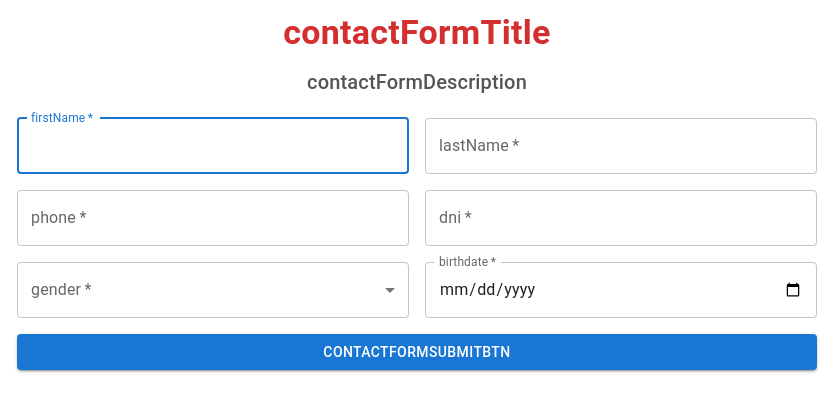
it: ContactForm › displays error message on invalid DNI
The image size is (835, 413).
Type "12345678X" into the field with test id "dni" at (621,218), box 425,190 -> 817,246
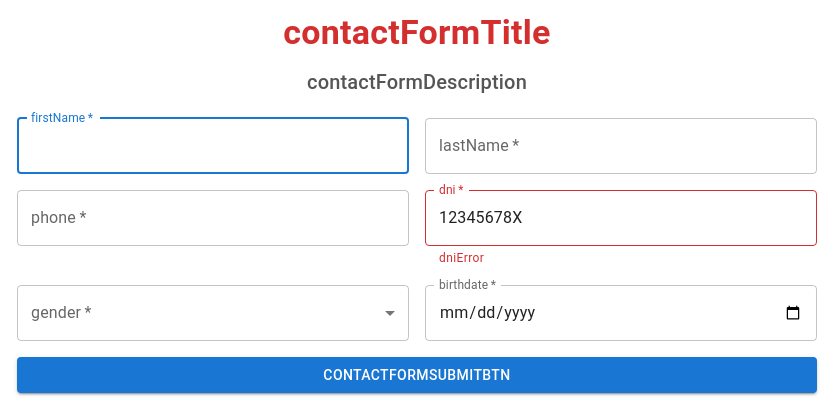
Expected: the text "dniError" is shown, 439,251 -> 484,265
